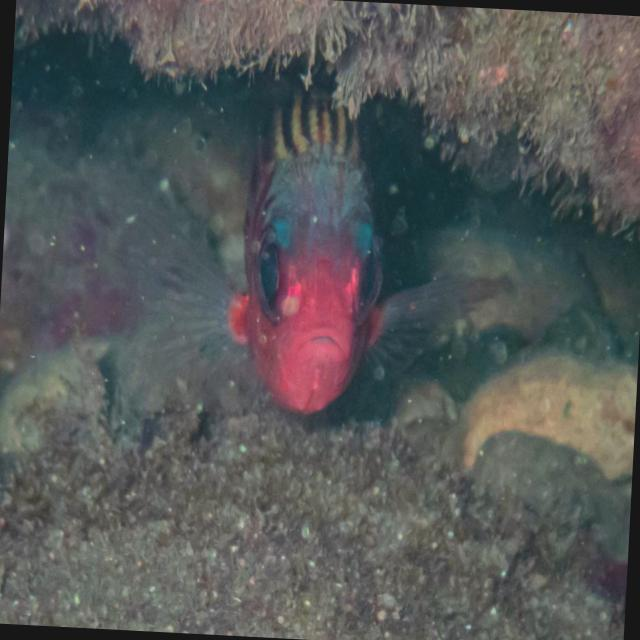Asker Baligi: (190, 37, 430, 422)
